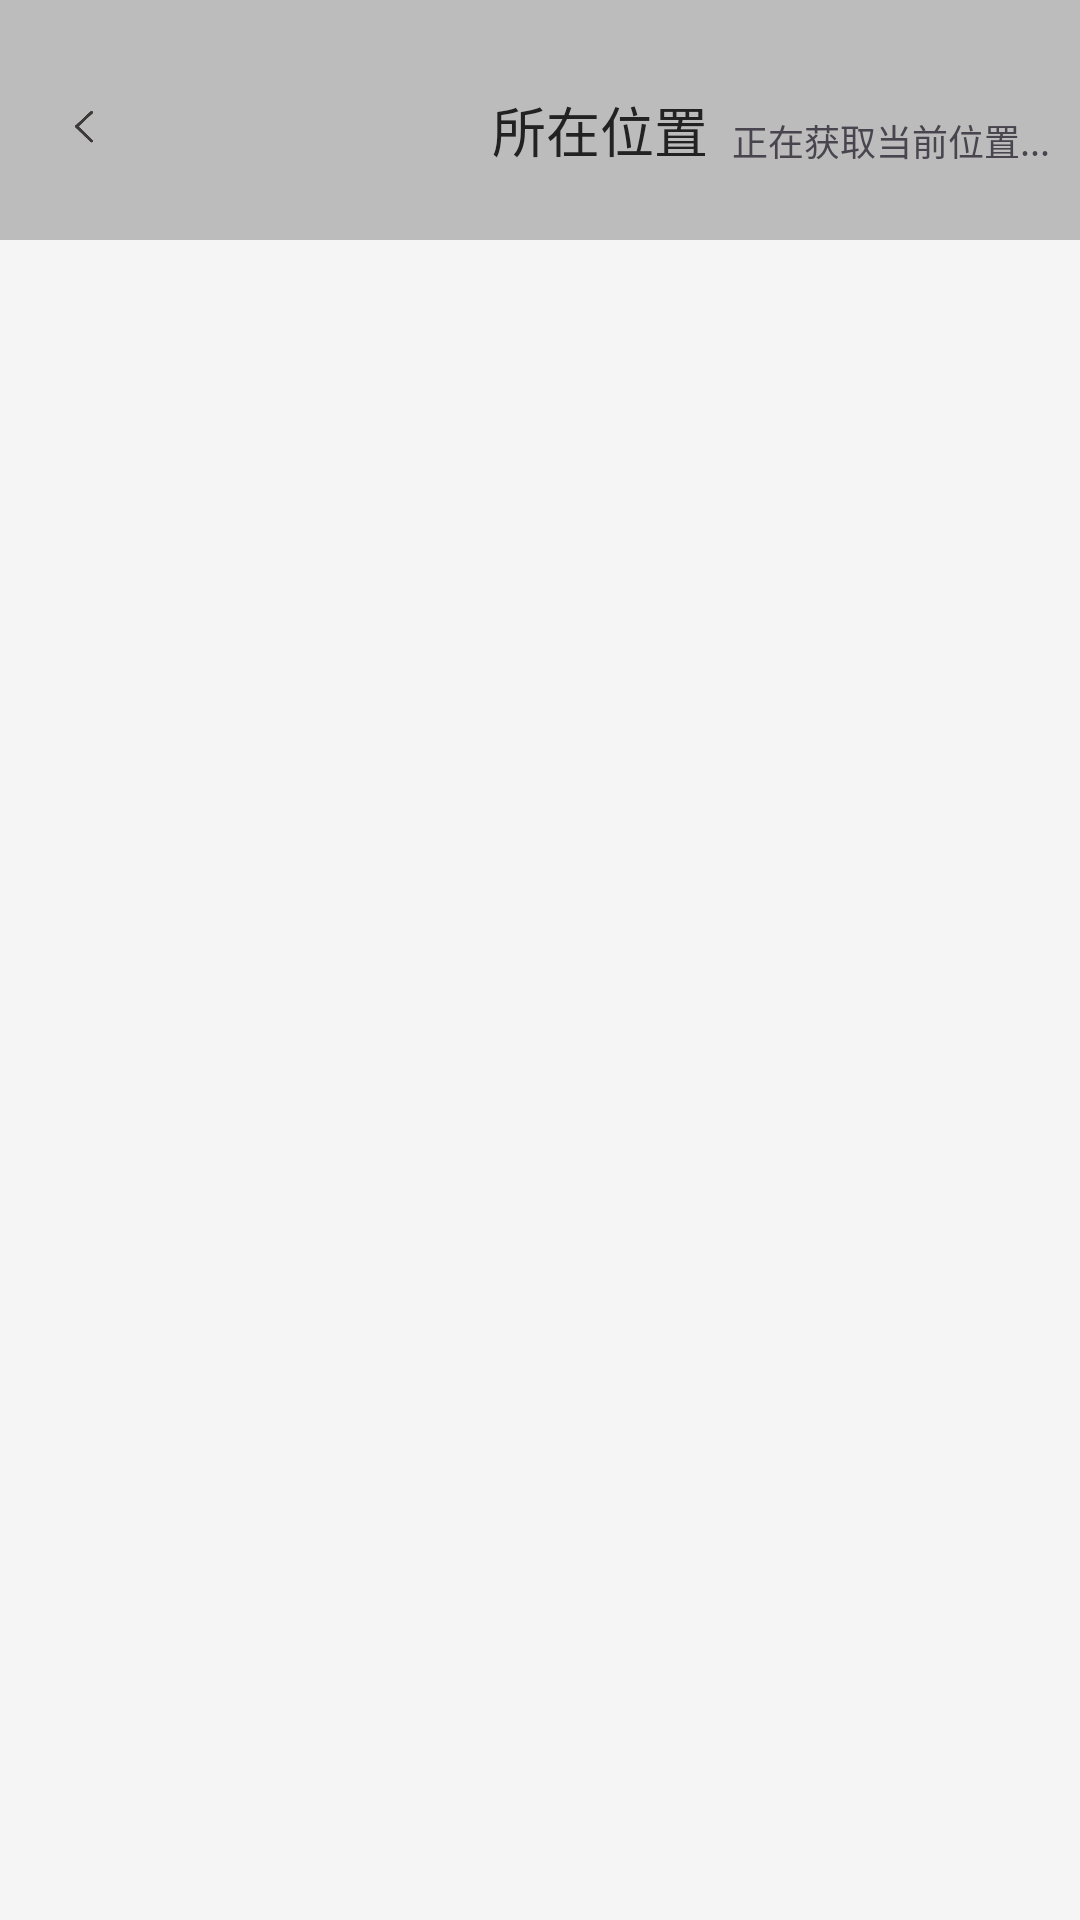

Screen size 1080px×1920px. Icon name, then its center in pixels as (x=x, y=y):
return: (x=84, y=127)
